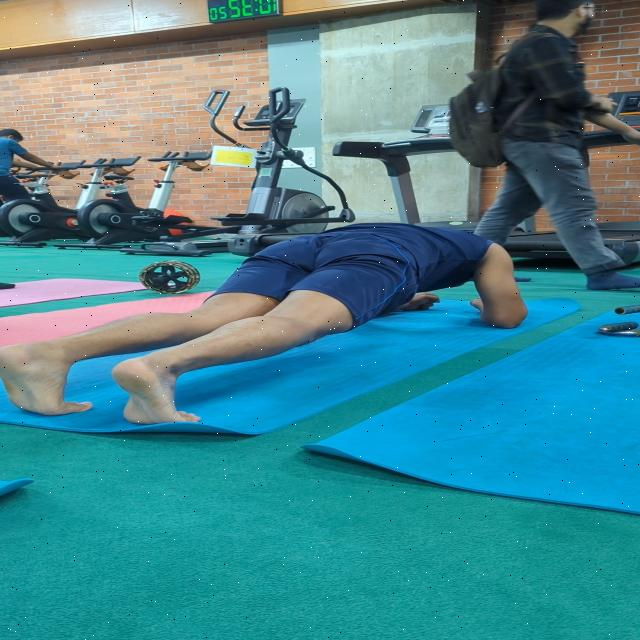Normal_Plunk: (0, 228, 534, 434)
